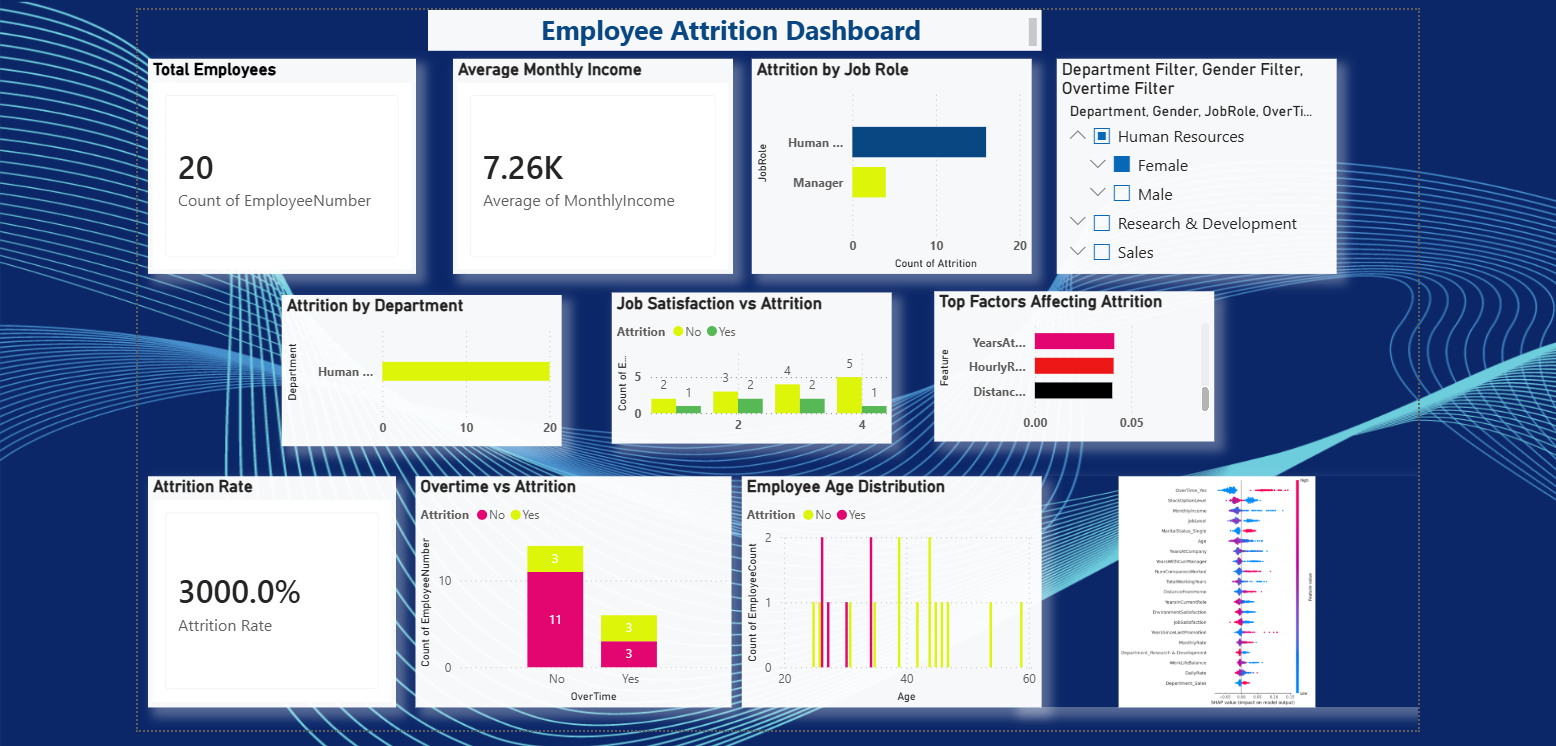

This screenshot's page, from the dashboard's own definition file:
{"tool":"powerbi","page":{"name":"Page 1","canvas":[1280,720],"ordinal":0},"visuals":[{"type":"cardVisual","title":"Total Employees","fields":{"Data":["CountNonNull(WA_Fn-UseC_-HR-Employee-Attrition.EmployeeNumber)"]},"box":[10,12,268,224],"z":0},{"type":"cardVisual","title":"Attrition Rate","fields":{"Data":["WA_Fn-UseC_-HR-Employee-Attrition.Attrition Rate"]},"box":[10,466,248,231],"z":1000},{"type":"cardVisual","title":"Average Monthly Income","fields":{"Data":["Avg(WA_Fn-UseC_-HR-Employee-Attrition.MonthlyIncome)"]},"box":[314,12,280,224],"z":2000},{"type":"clusteredBarChart","title":"Attrition by Department","fields":{"Category":["WA_Fn-UseC_-HR-Employee-Attrition.Department"],"Y":["CountNonNull(WA_Fn-UseC_-HR-Employee-Attrition.Attrition)"]},"box":[144,277,280,151],"z":3000},{"type":"columnChart","title":"Overtime vs Attrition","fields":{"Category":["WA_Fn-UseC_-HR-Employee-Attrition.OverTime"],"Series":["WA_Fn-UseC_-HR-Employee-Attrition.Attrition"],"Y":["CountNonNull(WA_Fn-UseC_-HR-Employee-Attrition.EmployeeNumber)"]},"box":[278,466,316,231],"z":4000},{"type":"clusteredBarChart","title":"Attrition by Job Role","fields":{"Category":["WA_Fn-UseC_-HR-Employee-Attrition.JobRole"],"Y":["CountNonNull(WA_Fn-UseC_-HR-Employee-Attrition.Attrition)"]},"box":[614,21,280,215],"z":5000},{"type":"clusteredColumnChart","title":"Job Satisfaction vs Attrition","fields":{"Category":["WA_Fn-UseC_-HR-Employee-Attrition.JobSatisfaction"],"Series":["WA_Fn-UseC_-HR-Employee-Attrition.Attrition"],"Y":["CountNonNull(WA_Fn-UseC_-HR-Employee-Attrition.EmployeeCount)"]},"box":[474,278,280,151],"z":6000},{"type":"clusteredColumnChart","title":"Employee Age Distribution","fields":{"Category":["WA_Fn-UseC_-HR-Employee-Attrition.Age"],"Y":["CountNonNull(WA_Fn-UseC_-HR-Employee-Attrition.EmployeeCount)"],"Series":["WA_Fn-UseC_-HR-Employee-Attrition.Attrition"]},"box":[604,466,300,231],"z":7000},{"type":"slicer","title":"Department Filter, Gender Filter, Overtime Filter","fields":{"Values":["WA_Fn-UseC_-HR-Employee-Attrition.Department","WA_Fn-UseC_-HR-Employee-Attrition.Gender","WA_Fn-UseC_-HR-Employee-Attrition.JobRole","WA_Fn-UseC_-HR-Employee-Attrition.OverTime","WA_Fn-UseC_-HR-Employee-Attrition.EducationField"]},"box":[939,21,280,215],"z":8000},{"type":"clusteredBarChart","title":"Top Factors Affecting Attrition","fields":{"Category":["feature_importance.Feature"],"Y":["Sum(feature_importance.Importance)"]},"box":[796,279,280,150],"z":9000},{"type":"image","box":[872,466,408,231],"z":10000}]}

Visuals, with their boxes in screenshot pixels (x1, y1, x2, y2):
"Total Employees" cardVisual: <bbox>148, 28, 412, 249</bbox>
"Attrition Rate" cardVisual: <bbox>148, 475, 392, 703</bbox>
"Average Monthly Income" cardVisual: <bbox>447, 28, 723, 249</bbox>
"Attrition by Department" clusteredBarChart: <bbox>280, 289, 555, 438</bbox>
"Overtime vs Attrition" columnChart: <bbox>412, 475, 723, 703</bbox>
"Attrition by Job Role" clusteredBarChart: <bbox>743, 37, 1018, 249</bbox>
"Job Satisfaction vs Attrition" clusteredColumnChart: <bbox>605, 290, 880, 439</bbox>
"Employee Age Distribution" clusteredColumnChart: <bbox>733, 475, 1028, 703</bbox>
"Department Filter, Gender Filter, Overtime Filter" slicer: <bbox>1063, 37, 1338, 249</bbox>
"Top Factors Affecting Attrition" clusteredBarChart: <bbox>922, 291, 1198, 439</bbox>
image: <bbox>997, 475, 1399, 703</bbox>
